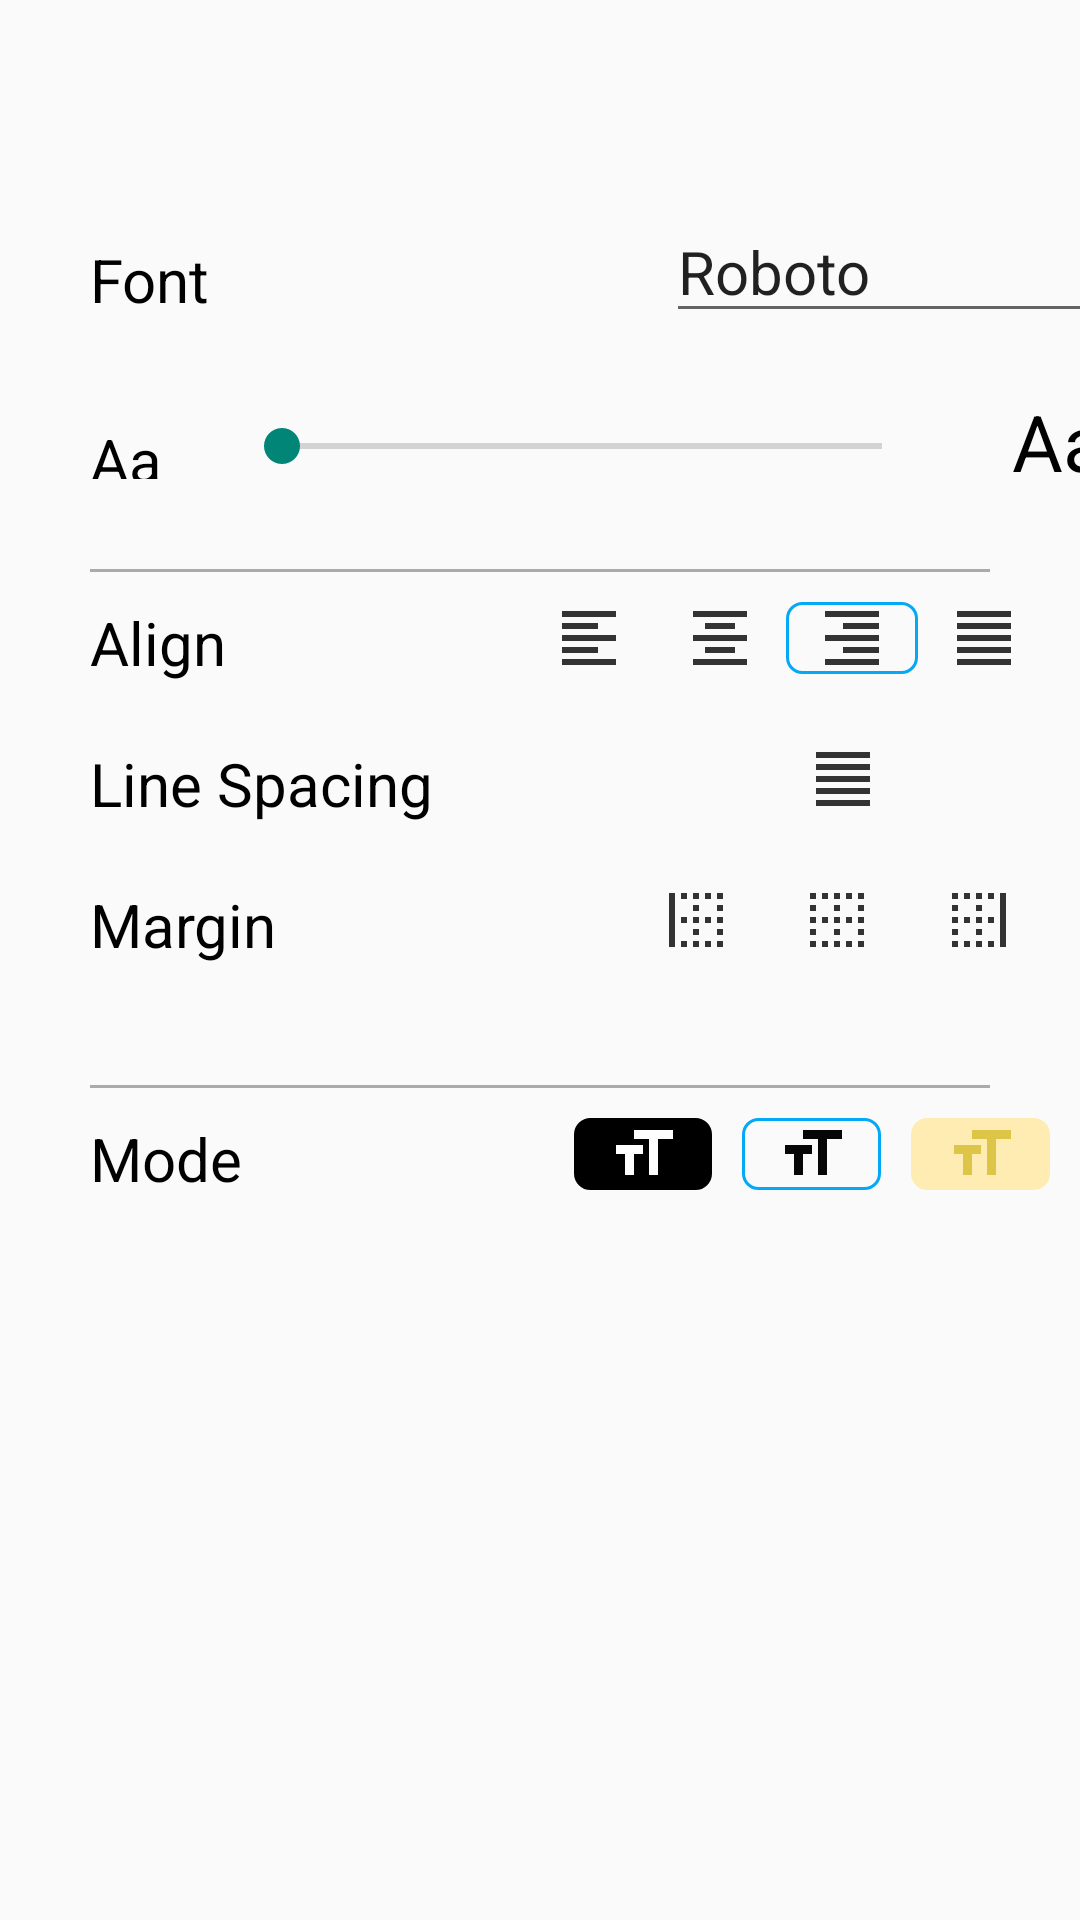

Screen size 1080 x 1920. Icon name, then its box in pixels as [x1,y1,x2,y2]:
border clear: [810,893,864,947]
border left: [669,893,723,947]
border right: [952,893,1006,947]
format align justify: [957,611,1011,665], [816,752,870,806]
format align right: [786,602,918,674]
format size: [574,1118,712,1190], [742,1118,881,1190]
format size eye care: [911,1118,1050,1190]
